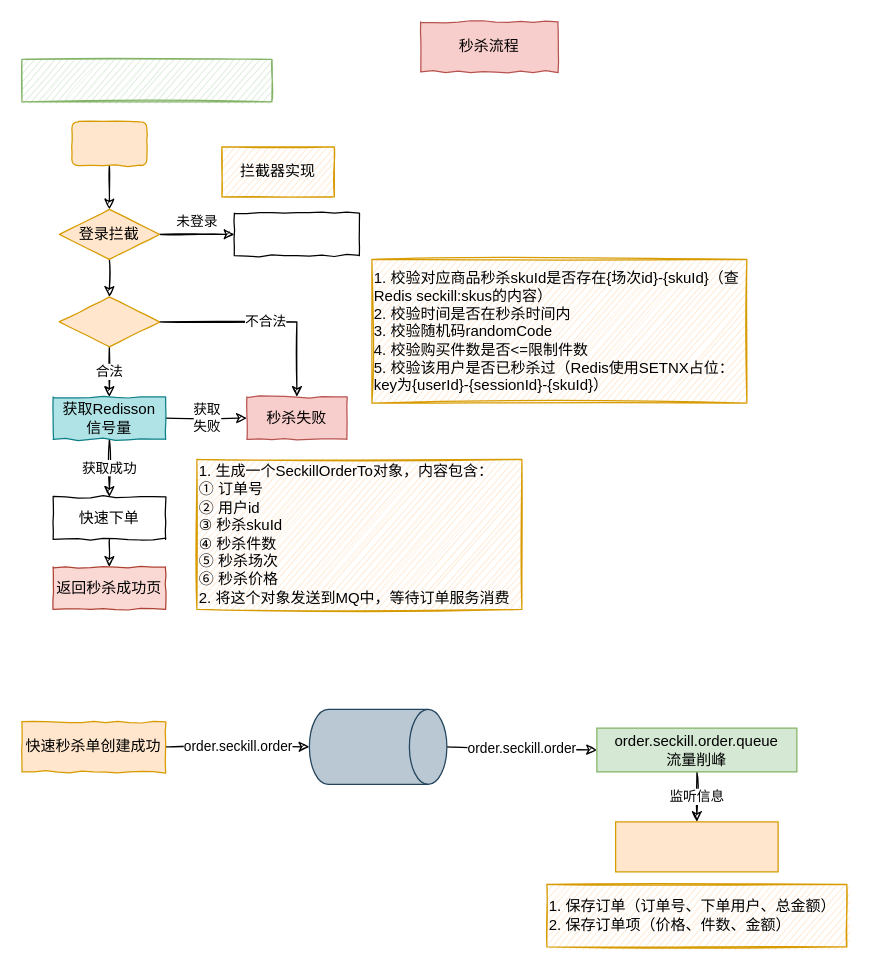
This 869x969 diagram has some shape labels left out. The centre of each missing label's shape, as x and y in pixels:
"order-event-exchange" goes at point (377, 746).
"参数： 秒杀skuId、randomCode、秒杀件数" goes at point (146, 80).
"合法性判断" goes at point (108, 321).
"开始" goes at point (109, 143).
"订单服务监听消息创建订单" goes at point (696, 846).
"重定向到首页" goes at point (296, 234).
